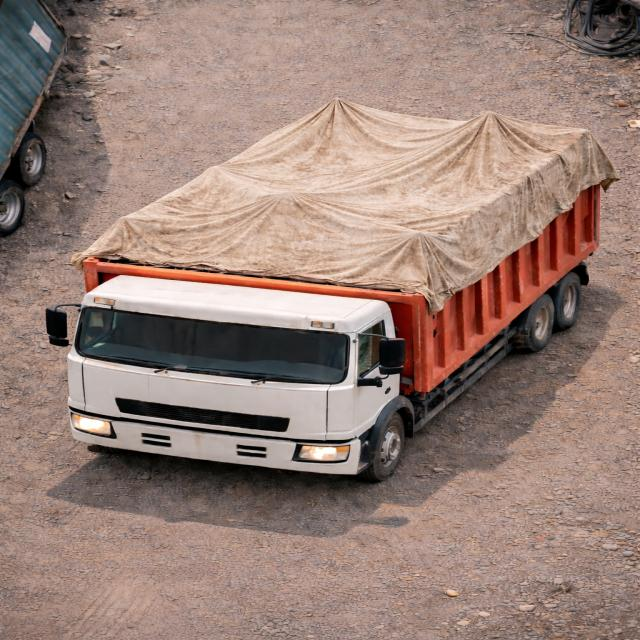trailer: (80, 93, 608, 271)
truck: (44, 87, 622, 490)
